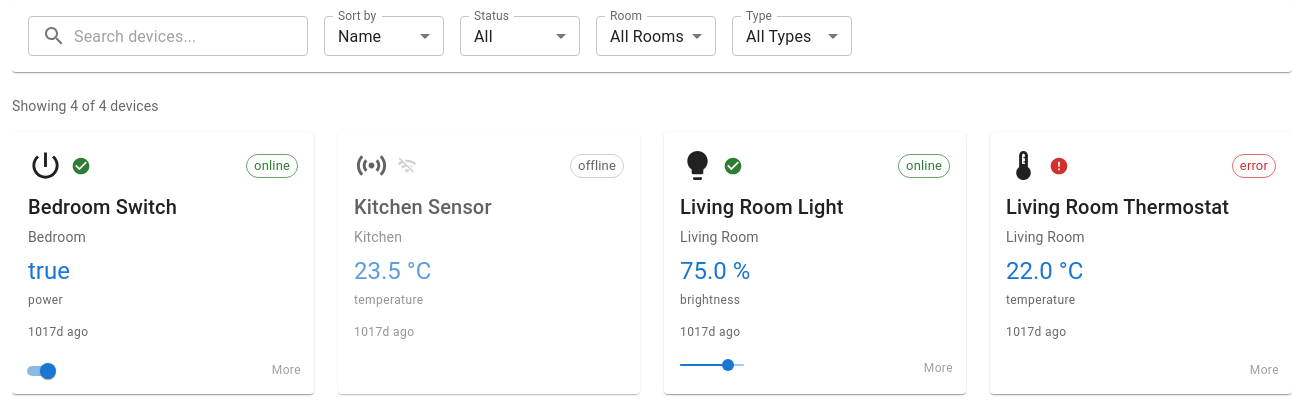
Test: DeviceGrid › displays no results message when filters match no devices
# Apply filter that matches no devices
Type "NonexistentDevice" into the field with placeholder "Search devices..." at (191, 36), box [74,16,308,56]
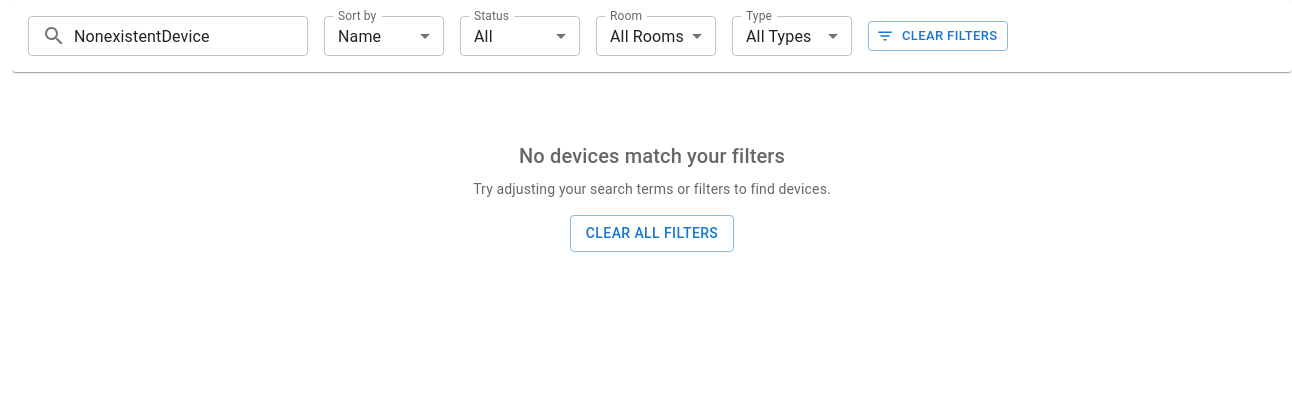
Expected: the heading "No devices match your filters" is shown, [519,140,785,172]
Expected: the text "Try adjusting your search terms or filters to find devices." is shown, [473,179,831,199]
